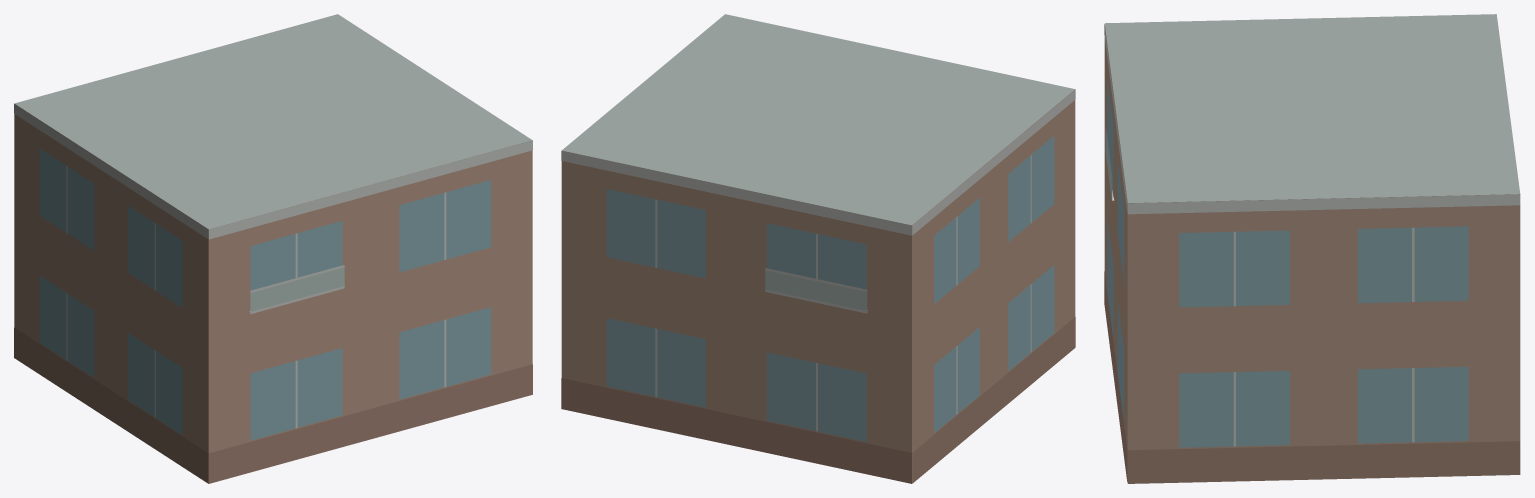
The model's file is survey-upis-32807278.glb.
3 renders of one model, left to right at view 1: azimuth 30°, elevation 25°; view 2: azimuth 150°, elevation 25°; view 3: azimuth 270°, elevation 25°, orthographic. The views are drawn at different scales.
Parts seen in each view (by area): view 1: survey-upis-32807278.tmp; view 2: survey-upis-32807278.tmp; view 3: survey-upis-32807278.tmp.
Boxes of the visible parts, x1,y1,x2,y2 form: survey-upis-32807278.tmp: (14, 14, 532, 483); survey-upis-32807278.tmp: (561, 14, 1075, 483); survey-upis-32807278.tmp: (1104, 14, 1520, 483).
Size of the model in its own units: 8.82 by 6.1 by 8.2.
